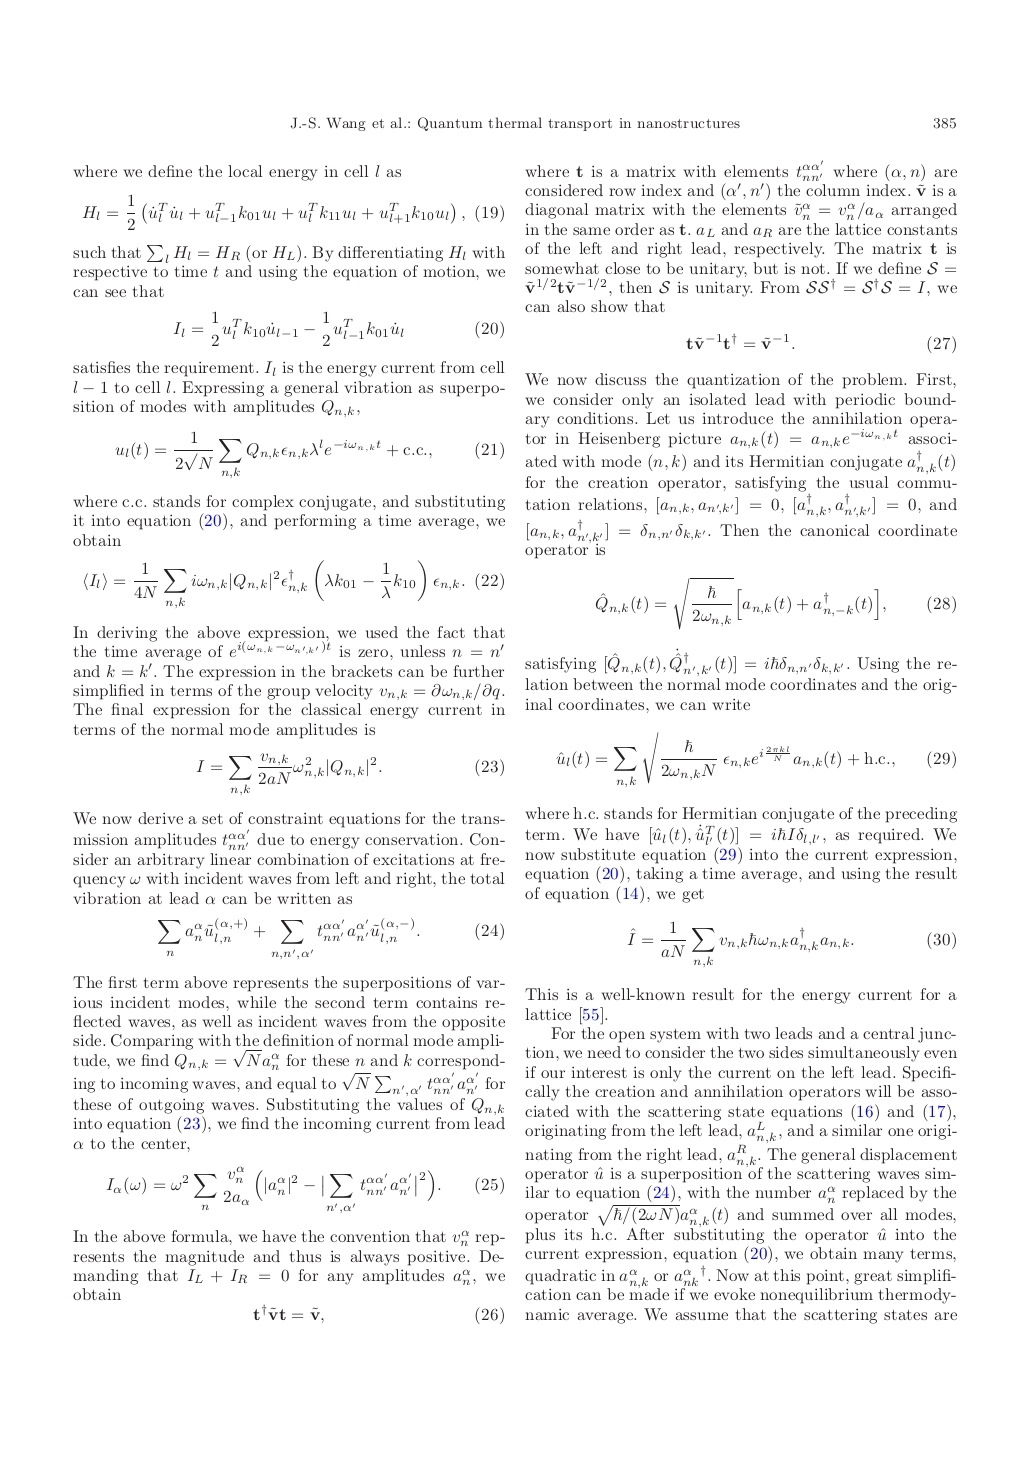formula: (556, 731, 955, 788), (84, 559, 503, 609), (106, 1165, 503, 1214), (595, 577, 955, 630), (115, 429, 503, 479), (627, 920, 955, 968), (81, 193, 503, 230), (158, 918, 503, 959), (196, 752, 503, 796), (173, 310, 503, 346), (686, 332, 955, 352), (253, 1303, 503, 1324)
